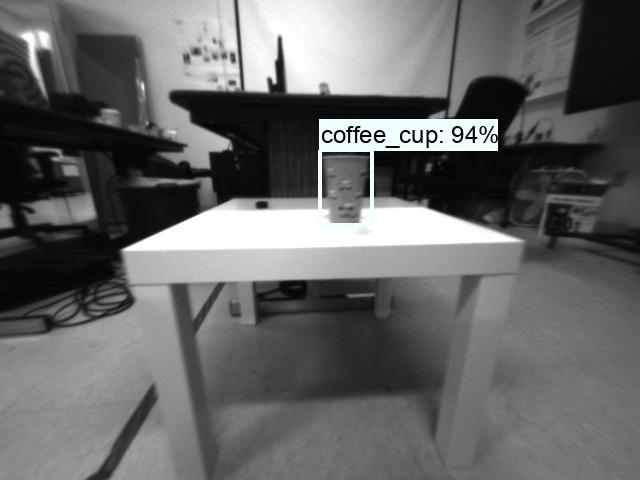coffee_cup: (322, 153, 371, 226)
